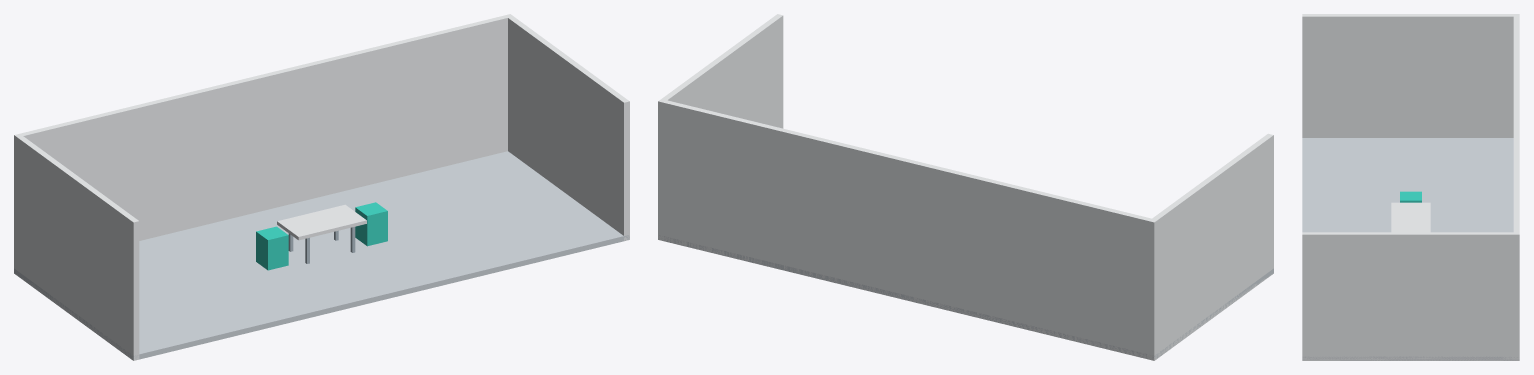
3 renders of one model, left to right at view 1: azimuth 30°, elevation 25°; view 2: azimuth 150°, elevation 25°; view 3: azimuth 270°, elevation 25°, orthographic. The views are drawn at different scales.
Visible parts, largest first — view 1: Exhibition Booth Concept; view 2: Exhibition Booth Concept; view 3: Exhibition Booth Concept.
Part boxes in pixels (x1,y1,x2,y2): Exhibition Booth Concept: (14, 14, 629, 360); Exhibition Booth Concept: (658, 14, 1273, 360); Exhibition Booth Concept: (1302, 14, 1519, 360).
Bounding box in the file's own units: 12 × 3.2 × 5.
